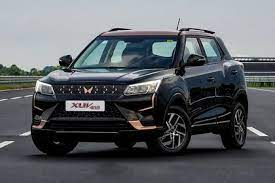XUV 400: (30, 17, 249, 157)
